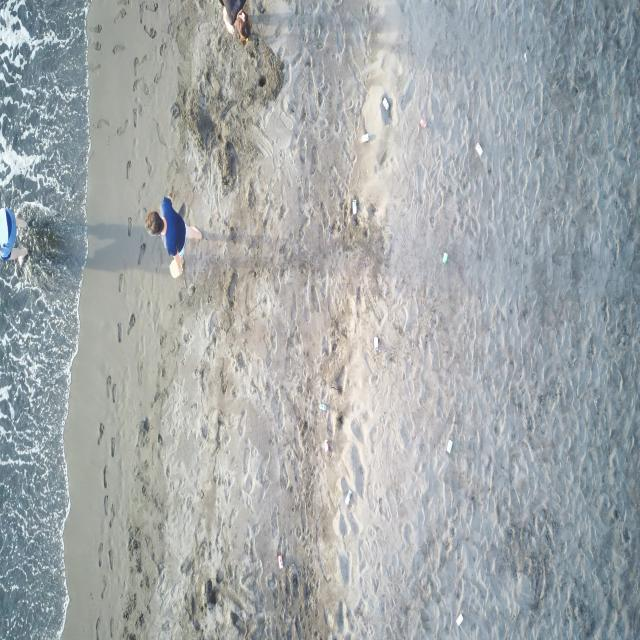tin-and-aluminum-cans: (382, 96, 390, 112), (345, 489, 352, 505), (456, 613, 464, 626), (446, 439, 453, 453), (361, 132, 369, 144), (324, 438, 330, 454), (278, 554, 284, 569), (419, 118, 428, 128), (442, 251, 448, 265), (476, 142, 482, 156), (352, 198, 357, 214), (374, 335, 378, 351), (319, 403, 326, 412)
